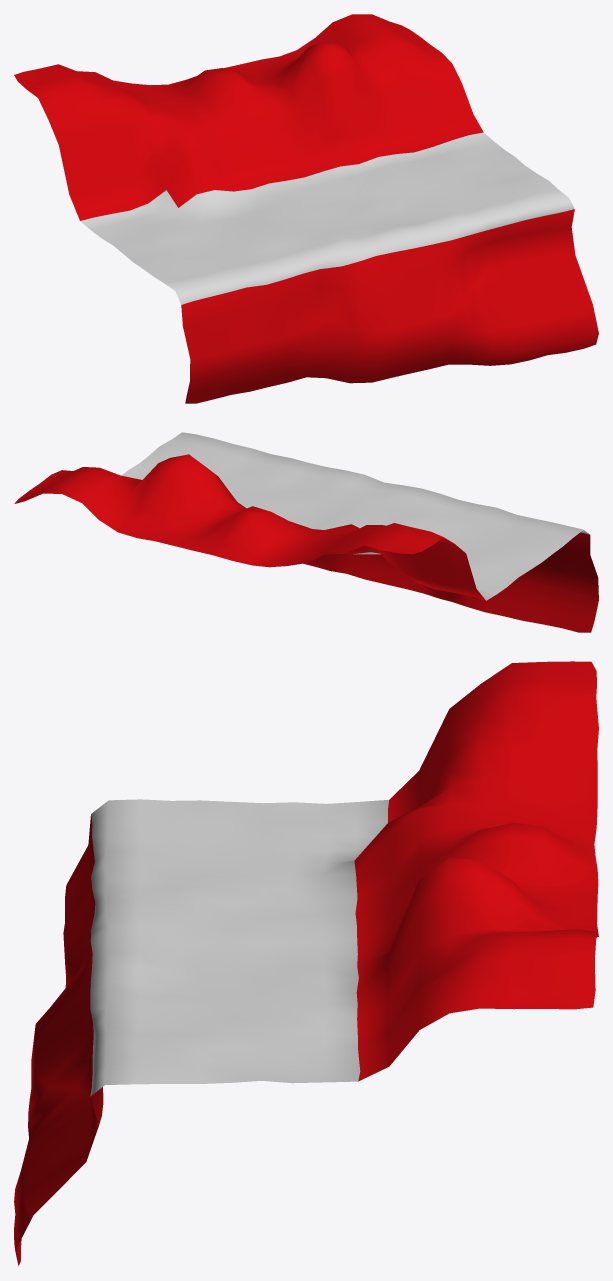
Rendered from KnightBossLevel4.fbx.
3 renders of one model, top to bottom at view 1: azimuth 30°, elevation 25°; view 2: azimuth 150°, elevation 25°; view 3: azimuth 270°, elevation 25°, orthographic. The views are drawn at different scales.
Visible parts, largest first — view 1: Plane.003; view 2: Plane.003; view 3: Plane.003.
Boxes of the visible parts, x1,y1,x2,y2 form: Plane.003: [14, 14, 598, 403]; Plane.003: [14, 432, 598, 632]; Plane.003: [14, 661, 598, 1266].
Size of the model in its own units: 21547 by 11665 by 18780.
